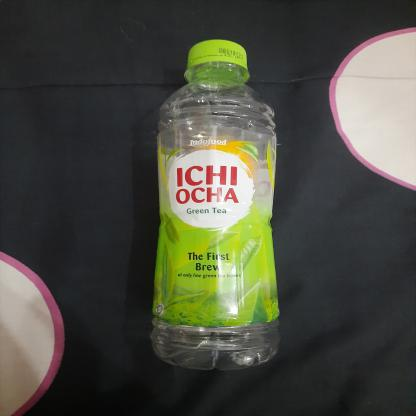plastic: (143, 36, 288, 376)
